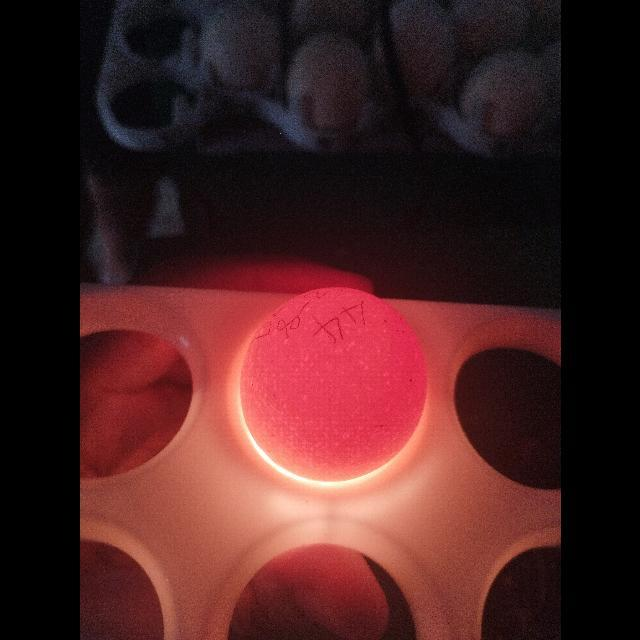A - Good: (235, 283, 429, 485)
